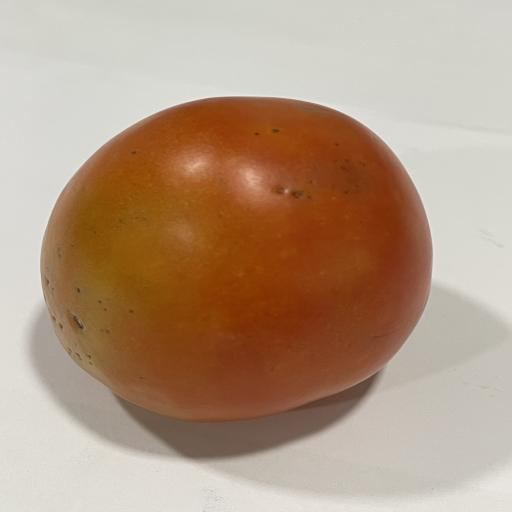unripe: (41, 97, 431, 421)
